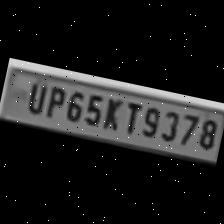3: (155, 105, 181, 144)
5: (79, 90, 106, 127)
6: (60, 85, 86, 124)
7: (174, 108, 200, 148)
8: (192, 112, 220, 152)
9: (135, 100, 163, 140)
K: (97, 93, 125, 133)
P: (40, 81, 66, 120)
T: (117, 96, 142, 136)
U: (20, 76, 48, 114)
